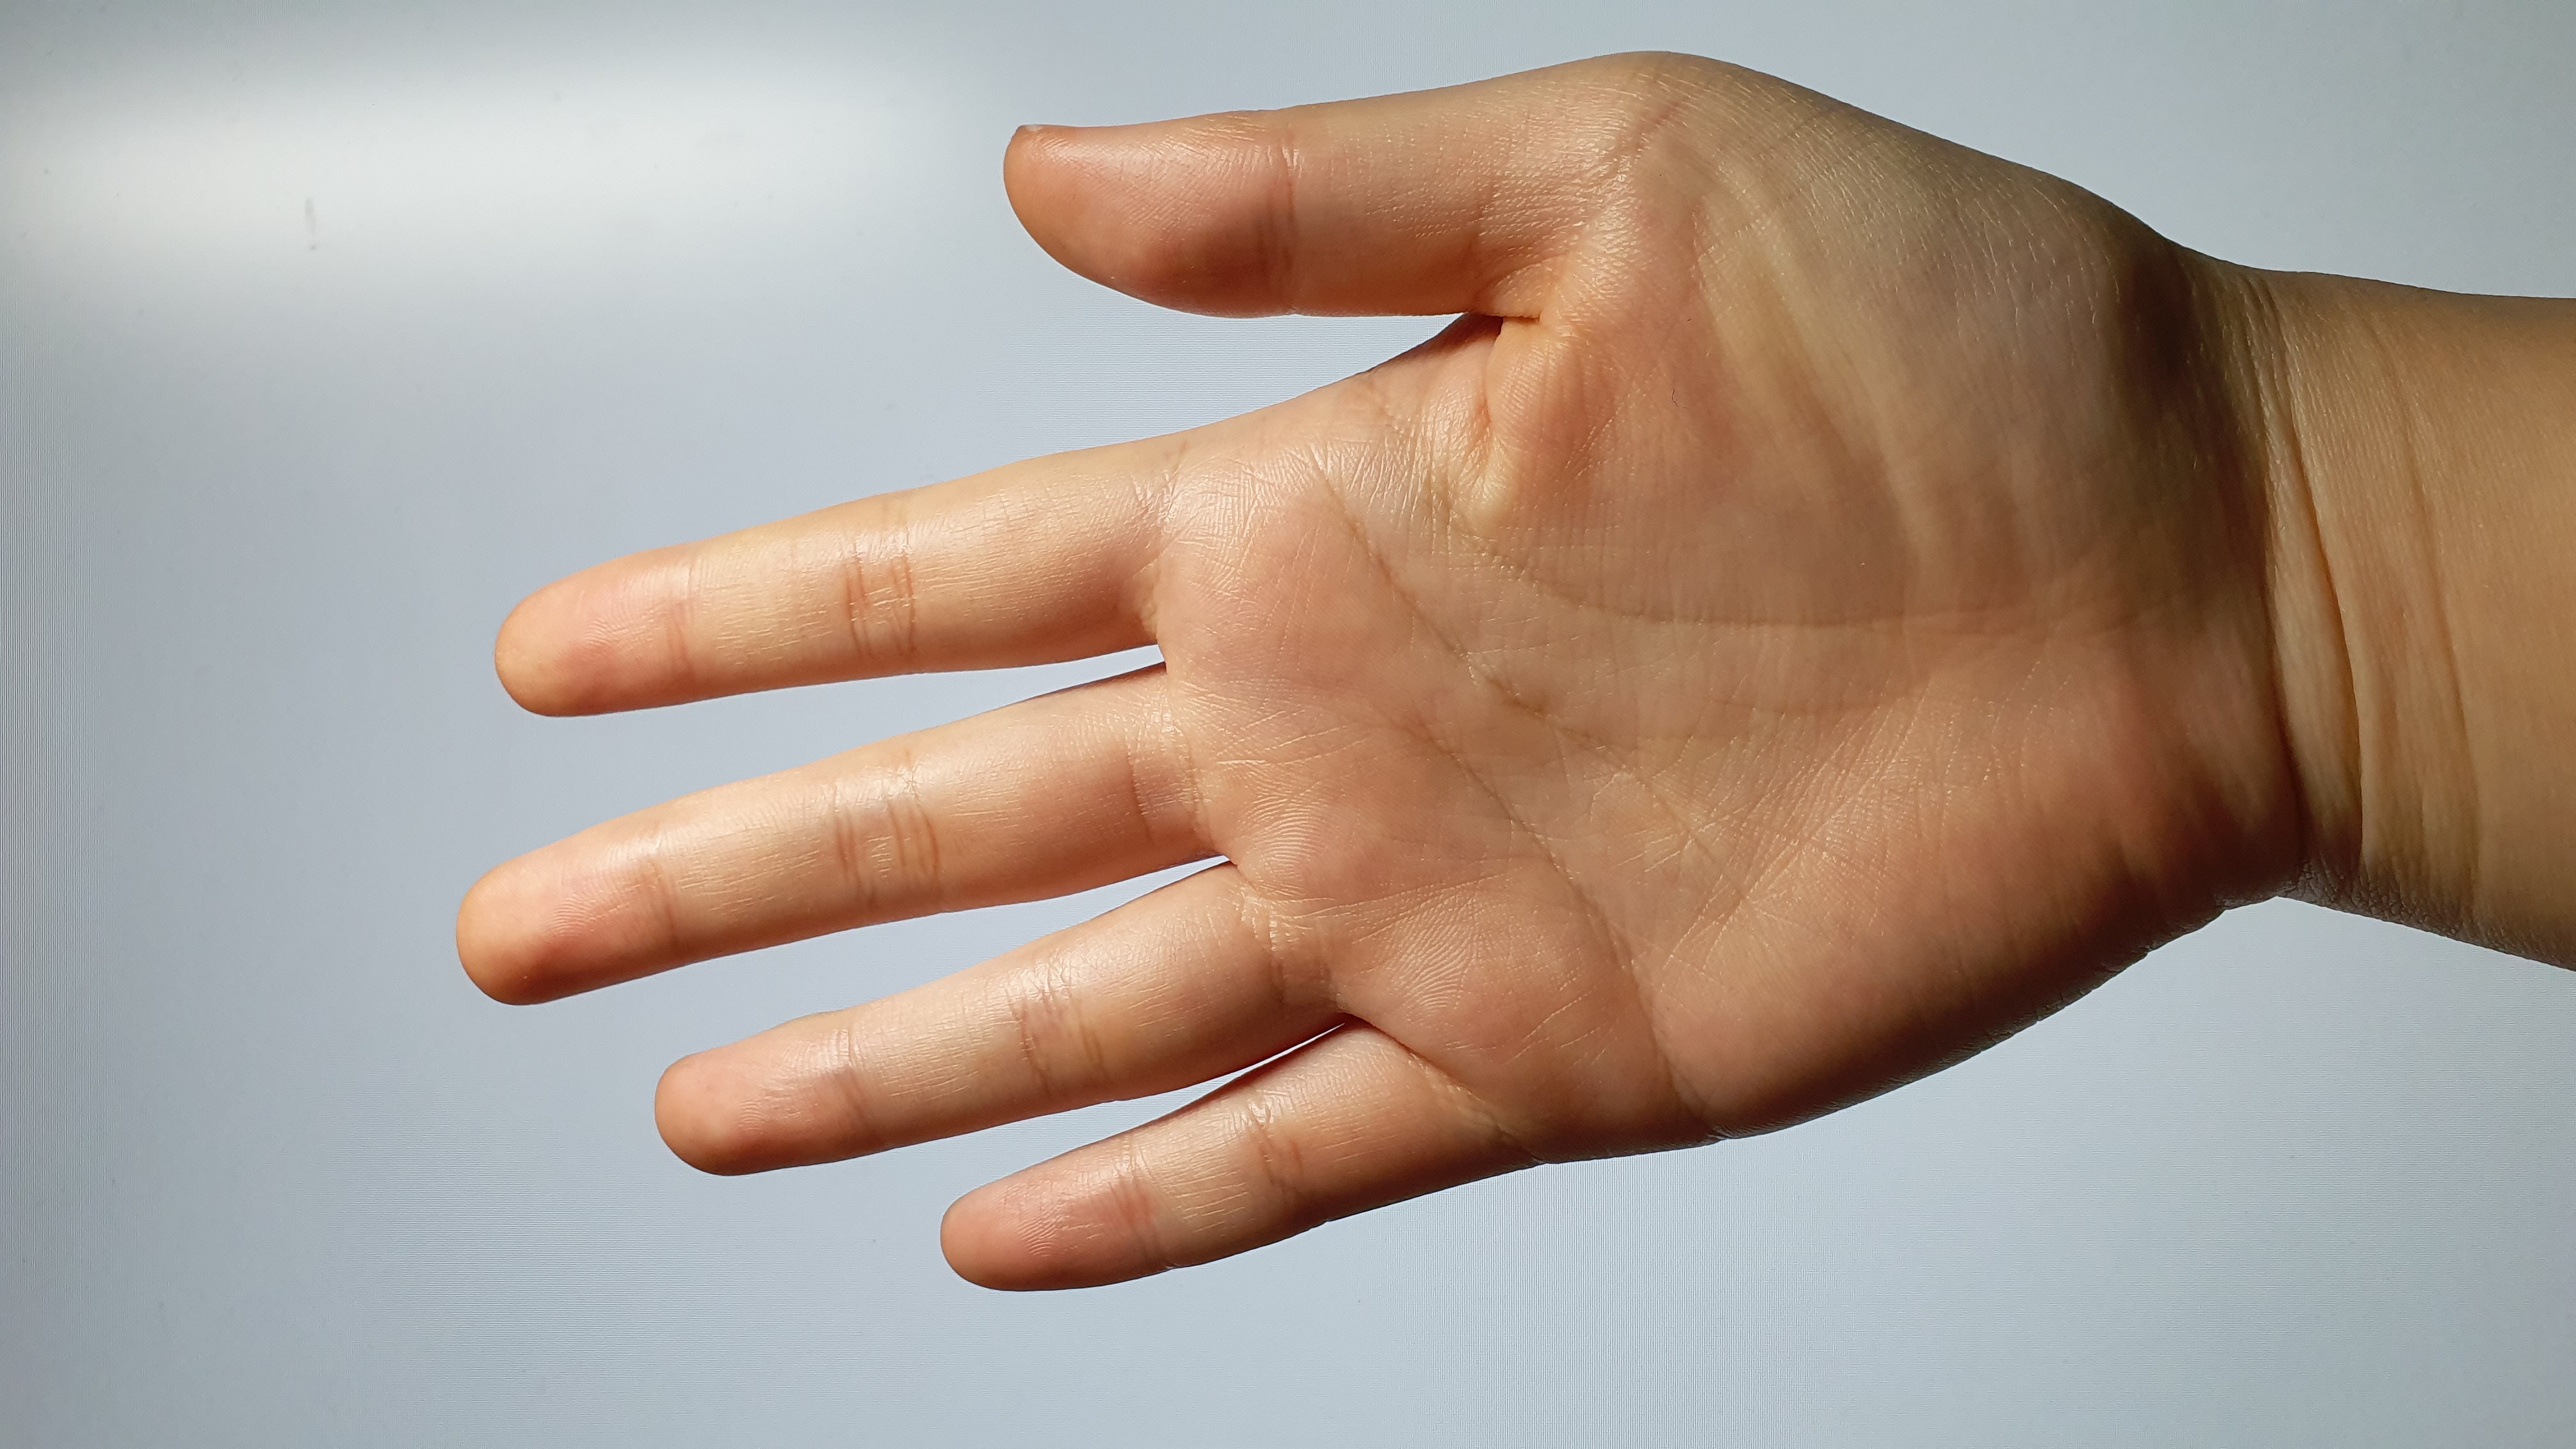hand: (432, 44, 2293, 1307)
index finger: (499, 469, 1180, 690)
middle finger: (441, 669, 1237, 996)
palm: (1161, 241, 2270, 1136)
pinky: (934, 1037, 1509, 1307)
ring finger: (660, 878, 1295, 1180)
thumb: (991, 83, 1552, 340)
